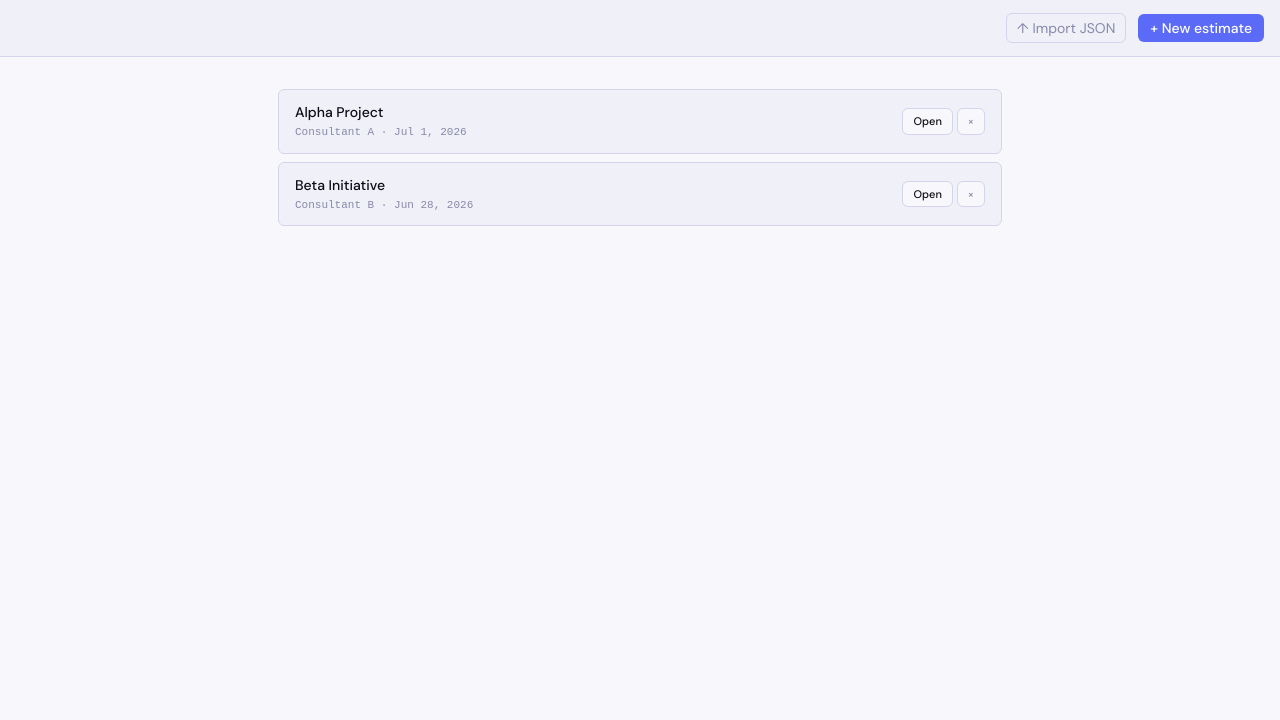
Test: ConfirmDeleteModal (T10, specs/001) › (F) delete failure → inline error shown, modal open › shows an inline error when estimatesApi.remove rejects and does not close the modal
Expected: the text "Alpha Project" is shown, 295,102 -> 383,122
# Open modal for Alpha
What coordinates should you click on to do the following:
click the button named "Delete \"Alpha Project\""
I would click on:
 (971, 121)
Its box is 957,108 -> 985,134.
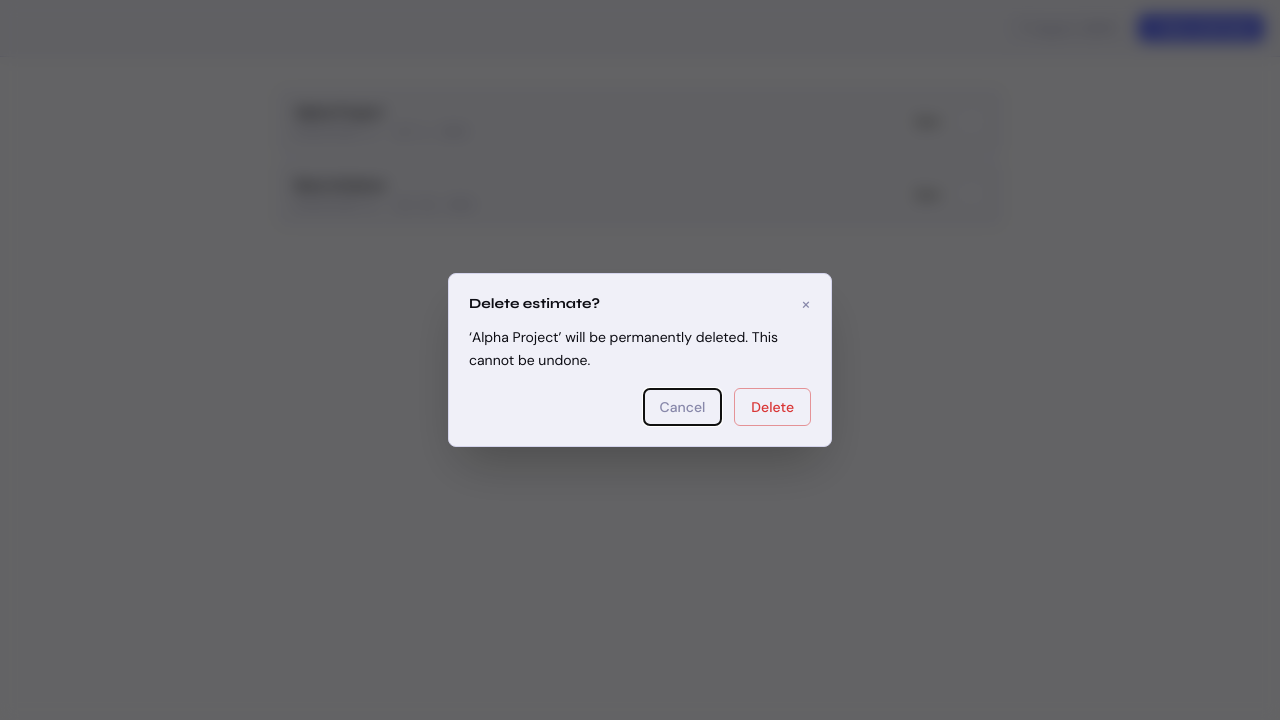
# Click Delete (confirm)
What coordinates should you click on to do the following:
click the button with test id "confirm-delete-confirm"
I would click on:
 (773, 407)
Its box is 734,388 -> 811,426.
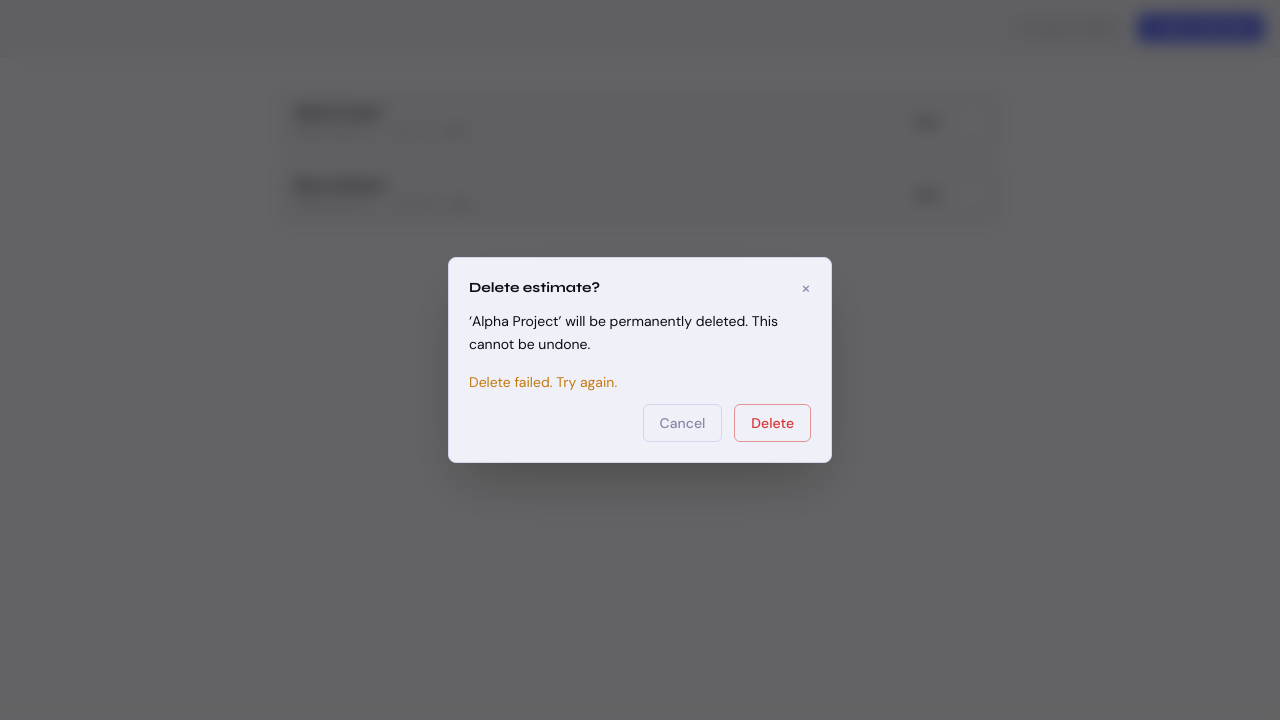
Expected: the element with test id "confirm-delete-modal" is shown
Expected: the message with test id "confirm-delete-error" shows "Delete failed", 469,373 -> 617,391
